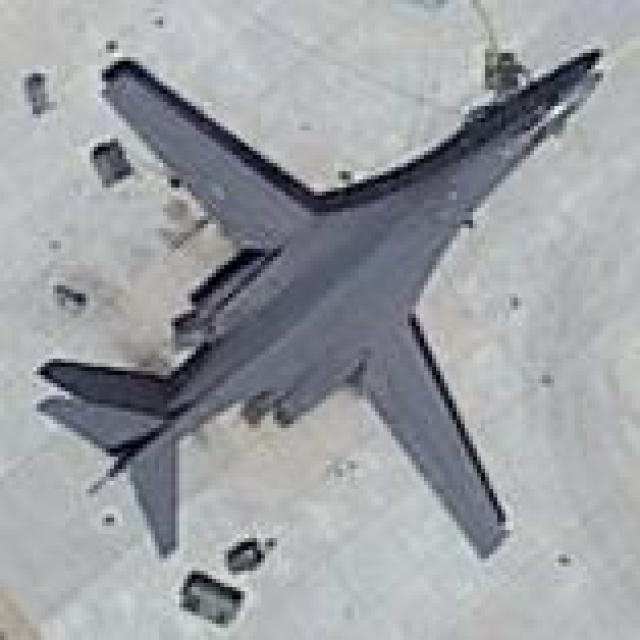B-1_TopDown: (29, 20, 608, 571)
